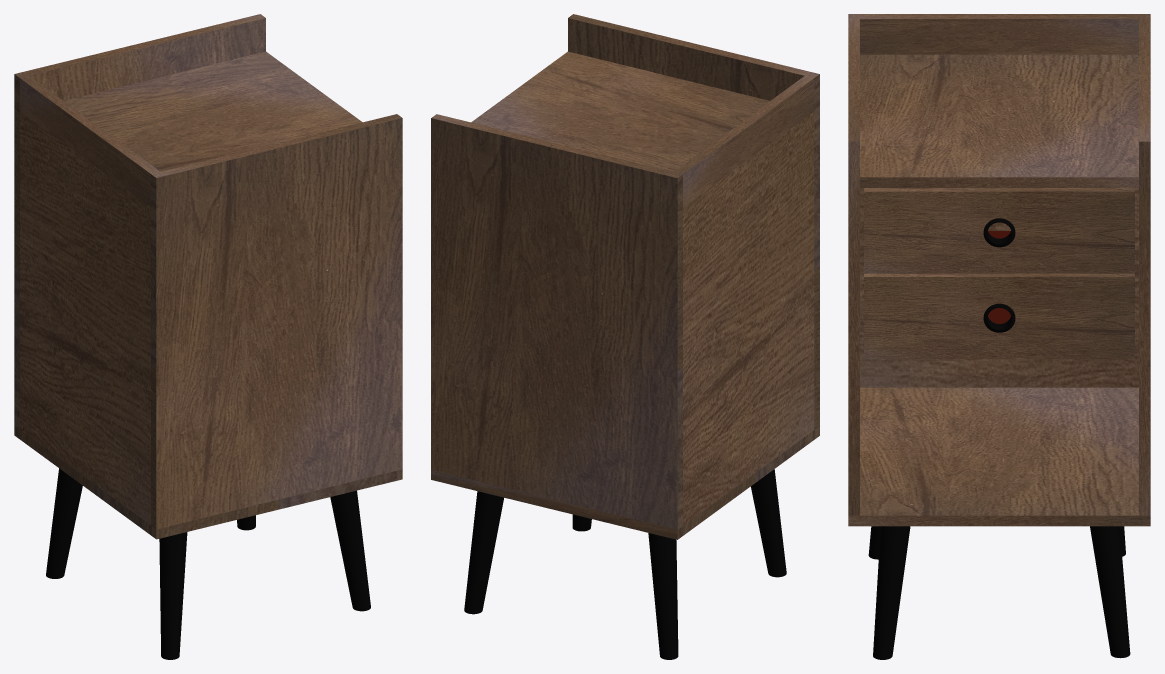
File: criadomudo.glb
3 views of the same model, side by side, from view 1: azimuth 30°, elevation 25°; view 2: azimuth 150°, elevation 25°; view 3: azimuth 270°, elevation 25° (orthographic). The views are drawn at different scales.
Visible parts, largest first — view 1: Componente4\Sólido, Componente6\Superfície, Componente3\Sólido, Componente5\Sólido, Componente6\Sólido, Componente2\Sólido, Pattern (Padrão)\Componente8\Sólido (2), Pattern (Padrão)\Componente8\Sólido (3), Pattern (Padrão)\Componente8\Sólido; view 2: Componente5\Sólido, Componente6\Superfície, Componente3\Sólido, Componente4\Sólido, Componente6\Sólido, Componente2\Sólido, Pattern (Padrão)\Componente8\Sólido, Pattern (Padrão)\Componente8\Sólido (4), Pattern (Padrão)\Componente8\Sólido (2); view 3: Componente2\Sólido, Componente3\Sólido, Componente7\Sólido, Componente7\Sólido (2), Componente6\Sólido, Componente6\Superfície, Componente4\Sólido, Componente5\Sólido, Pattern (Padrão)\Componente8\Sólido (3), Pattern (Padrão)\Componente8\Sólido (4), Componente7\Sólido1, Componente7\Sólido1 (2).
Part boxes in pixels (left/top/right/bottom): Componente4\Sólido: left=151, top=114, right=402, bottom=529; Componente6\Superfície: left=20, top=112, right=150, bottom=524; Componente3\Sólido: left=64, top=51, right=362, bottom=171; Componente5\Sólido: left=14, top=14, right=265, bottom=429; Componente6\Sólido: left=20, top=76, right=159, bottom=207; Componente2\Sólido: left=14, top=425, right=402, bottom=539; Pattern (Padrão)\Componente8\Sólido (2): left=159, top=532, right=187, bottom=659; Pattern (Padrão)\Componente8\Sólido (3): left=330, top=490, right=370, bottom=611; Pattern (Padrão)\Componente8\Sólido: left=46, top=468, right=82, bottom=578; Componente5\Sólido: left=431, top=114, right=682, bottom=529; Componente6\Superfície: left=683, top=112, right=814, bottom=525; Componente3\Sólido: left=471, top=51, right=769, bottom=171; Componente4\Sólido: left=568, top=14, right=819, bottom=429; Componente6\Sólido: left=674, top=76, right=814, bottom=207; Componente2\Sólido: left=431, top=426, right=819, bottom=539; Pattern (Padrão)\Componente8\Sólido: left=648, top=533, right=678, bottom=659; Pattern (Padrão)\Componente8\Sólido (4): left=464, top=491, right=503, bottom=614; Pattern (Padrão)\Componente8\Sólido (2): left=751, top=469, right=786, bottom=577; Componente2\Sólido: left=848, top=387, right=1150, bottom=526; Componente3\Sólido: left=860, top=54, right=1138, bottom=187; Componente7\Sólido: left=864, top=188, right=1134, bottom=273; Componente7\Sólido (2): left=864, top=273, right=1134, bottom=358; Componente6\Sólido: left=860, top=14, right=1138, bottom=54; Componente6\Superfície: left=860, top=188, right=1138, bottom=387; Componente4\Sólido: left=848, top=14, right=859, bottom=515; Componente5\Sólido: left=1139, top=14, right=1150, bottom=515; Pattern (Padrão)\Componente8\Sólido (3): left=873, top=526, right=910, bottom=659; Pattern (Padrão)\Componente8\Sólido (4): left=1090, top=526, right=1130, bottom=658; Componente7\Sólido1: left=983, top=218, right=1015, bottom=247; Componente7\Sólido1 (2): left=983, top=303, right=1015, bottom=332.
Bounding box in the file's own units: 0.388 × 0.74 × 0.385.
Materials: 3 (1 with a texture image).
